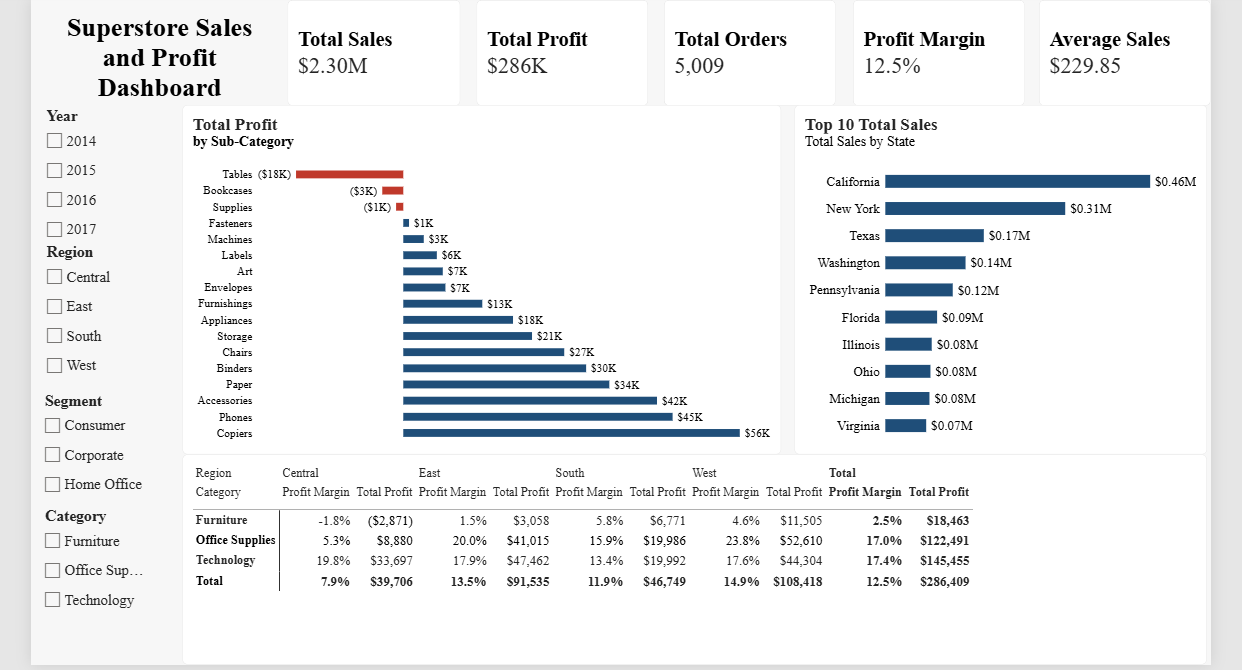

The page's visual inventory and layout, read from the dashboard file:
{"tool":"powerbi","page":{"name":"Detailed Analysis","canvas":[1920,1080],"ordinal":1},"visuals":[{"type":"cardVisual","fields":{"Data":["Superstore.Total Sales"]},"box":[417.9,0,281.6,172.6],"z":0},{"type":"cardVisual","fields":{"Data":["Superstore.total orders label"]},"box":[1028.9,0,279.4,172.6],"z":1000},{"type":"cardVisual","fields":{"Data":["Superstore.Profit Margin"]},"box":[1335.5,0,279.4,172.6],"z":2000},{"type":"cardVisual","fields":{"Data":["Superstore.Average Sales"]},"box":[1639.9,0,279.4,172.6],"z":3000},{"type":"cardVisual","fields":{"Data":["Superstore.Total Profit"]},"box":[724.5,0,279.4,172.6],"z":4000},{"type":"slicer","fields":{"Values":["Superstore.Year"]},"box":[18.2,172.6,193.1,222.6],"z":5000},{"type":"slicer","fields":{"Values":["Superstore.Region"]},"box":[18.2,395.2,179.4,222.6],"z":6000},{"type":"slicer","fields":{"Values":["Superstore.Segment"]},"box":[14.3,637,179.4,204.4],"z":7000},{"type":"slicer","fields":{"Values":["Superstore.Category"]},"box":[14.3,825.5,198,255.3],"z":8000},{"type":"textbox","box":[19.1,19.1,379.4,152.7],"z":9000},{"type":"clusteredBarChart","fields":{"Category":["Superstore.Sub-Category"],"Y":["Superstore.Total Profit"]},"box":[245.7,171.8,973.5,567.8],"z":13000},{"type":"clusteredBarChart","title":"Top 10 Total Sales","fields":{"Category":["Superstore.State"],"Y":["Superstore.Total Sales"]},"box":[1240.7,171.8,670.4,567.8],"z":14000},{"type":"pivotTable","fields":{"Columns":["Superstore.Region"],"Rows":["Superstore.Category"],"Values":["Superstore.Profit Margin","Superstore.Total Profit"]},"box":[245.7,758.7,1674.9,322.1],"z":16000}]}

Visuals, with their boxes on the page's 1920x1080 design canvas (x1, y1, x2, y2). These are canvas units, not pixel positions in the 1242x670 screenshot, which may show the page scaled, cropped or inside an application window:
cardVisual - Superstore.Total Sales: (x1=418, y1=0, x2=700, y2=173)
cardVisual - Superstore.total orders label: (x1=1029, y1=0, x2=1308, y2=173)
cardVisual - Superstore.Profit Margin: (x1=1336, y1=0, x2=1615, y2=173)
cardVisual - Superstore.Average Sales: (x1=1640, y1=0, x2=1919, y2=173)
cardVisual - Superstore.Total Profit: (x1=724, y1=0, x2=1004, y2=173)
slicer - Superstore.Year: (x1=18, y1=173, x2=211, y2=395)
slicer - Superstore.Region: (x1=18, y1=395, x2=198, y2=618)
slicer - Superstore.Segment: (x1=14, y1=637, x2=194, y2=841)
slicer - Superstore.Category: (x1=14, y1=826, x2=212, y2=1081)
textbox: (x1=19, y1=19, x2=398, y2=172)
clusteredBarChart - Superstore.Sub-Category x Superstore.Total Profit: (x1=246, y1=172, x2=1219, y2=740)
"Top 10 Total Sales" clusteredBarChart: (x1=1241, y1=172, x2=1911, y2=740)
pivotTable - Superstore.Region x Superstore.Category: (x1=246, y1=759, x2=1921, y2=1081)
